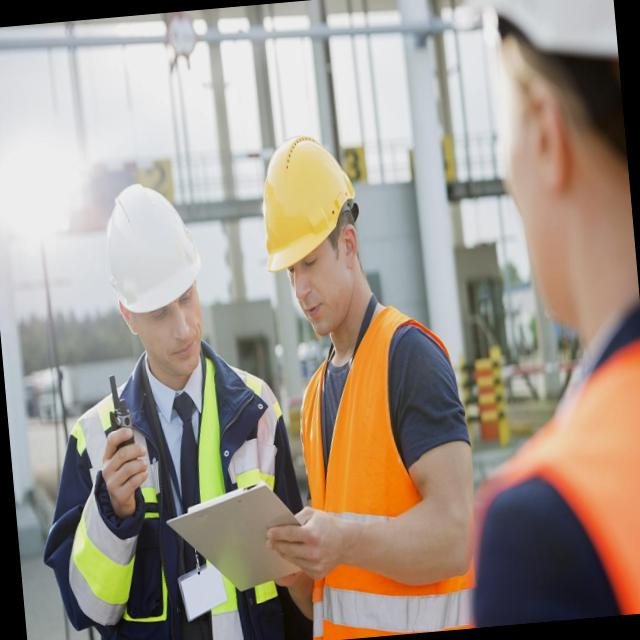helmet: (95, 182, 222, 334), (467, 0, 622, 119), (248, 136, 368, 286)
vest: (278, 309, 500, 640), (72, 353, 307, 640), (503, 330, 640, 623)
